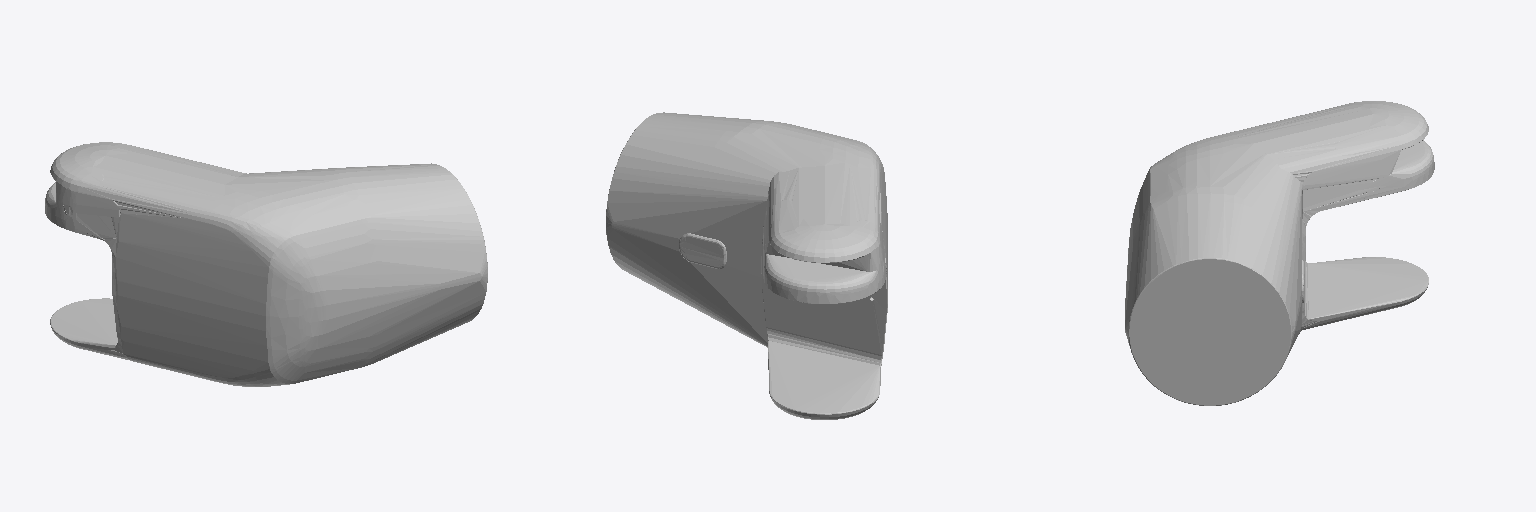
Rendered from arm_link_el0.obj.
3 renders of one model, left to right at view 1: azimuth 30°, elevation 25°; view 2: azimuth 150°, elevation 25°; view 3: azimuth 270°, elevation 25°, orthographic.
Parts seen in each view (by area): view 1: arm0.link_el0.001; view 2: arm0.link_el0.001; view 3: arm0.link_el0.001.
Part boxes in pixels (bbox=[...]): arm0.link_el0.001: bbox=[45, 142, 487, 386]; arm0.link_el0.001: bbox=[606, 112, 887, 419]; arm0.link_el0.001: bbox=[1125, 101, 1434, 405].
Bounding box in the file's own units: 0.1659 × 0.0924 × 0.1422.